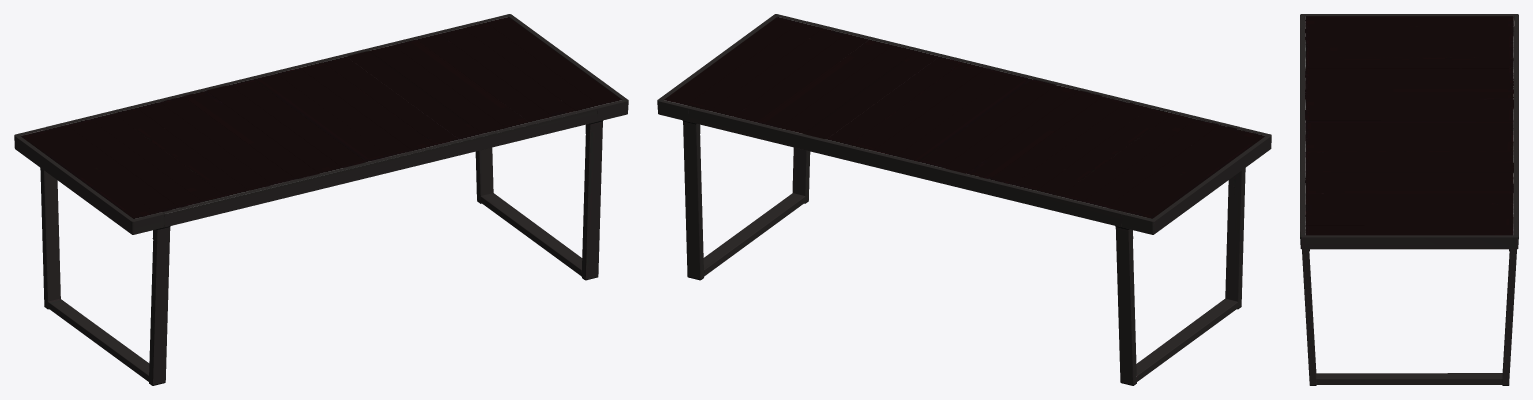
The model's file is varmanso_sto_ogrodowy_10515683.glb.
3 views of the same model, side by side, from view 1: azimuth 30°, elevation 25°; view 2: azimuth 150°, elevation 25°; view 3: azimuth 270°, elevation 25° (orthographic). The views are drawn at different scales.
Visible parts, largest first — view 1: varmanso_sto_ogrodowy_10515683; view 2: varmanso_sto_ogrodowy_10515683; view 3: varmanso_sto_ogrodowy_10515683.
Boxes of the visible parts, box(x1,y1,x2,y2) form: varmanso_sto_ogrodowy_10515683: box(14, 14, 628, 385); varmanso_sto_ogrodowy_10515683: box(657, 14, 1271, 385); varmanso_sto_ogrodowy_10515683: box(1300, 14, 1518, 385).
Size of the model in its own units: 2.24 by 0.7522 by 0.9302.
Materials: 1 (1 with a texture image).
